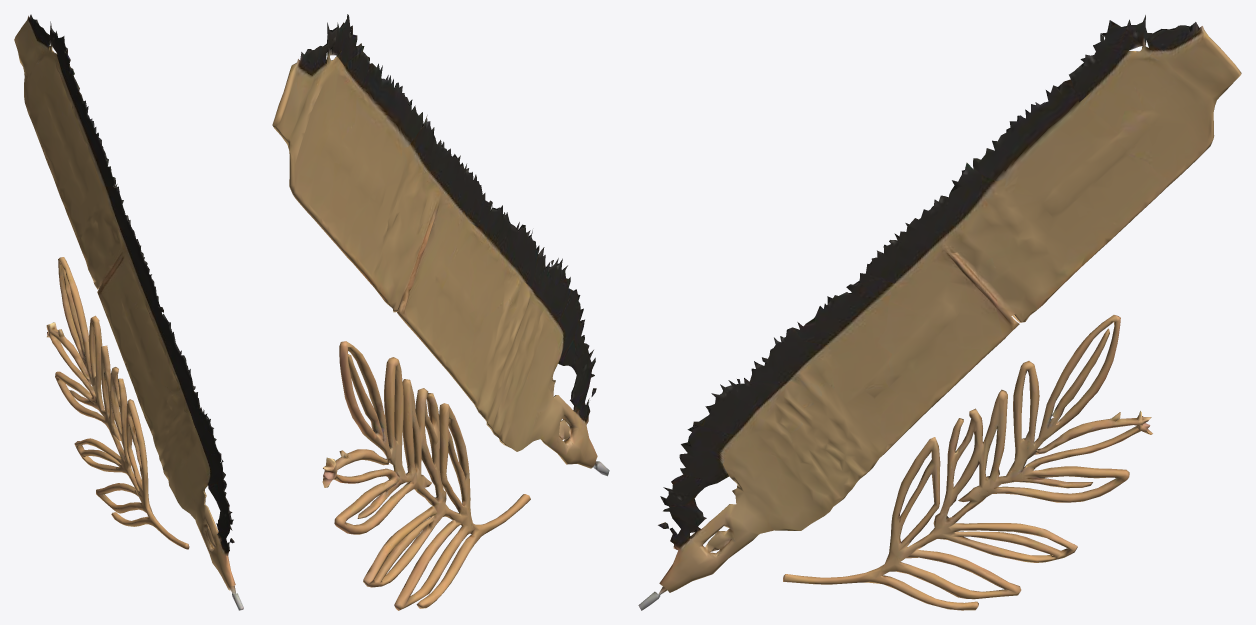
The model's file is tattoo.glb.
3 views of the same model, side by side, from view 1: azimuth 30°, elevation 25°; view 2: azimuth 150°, elevation 25°; view 3: azimuth 270°, elevation 25° (orthographic). The views are drawn at different scales.
Visible parts, largest first — view 1: tripo_node_5a9cfc8d-868a-4207-a896-fad7c42de290; view 2: tripo_node_5a9cfc8d-868a-4207-a896-fad7c42de290; view 3: tripo_node_5a9cfc8d-868a-4207-a896-fad7c42de290.
Boxes of the visible parts, x1,y1,x2,y2 form: tripo_node_5a9cfc8d-868a-4207-a896-fad7c42de290: [14, 14, 243, 610]; tripo_node_5a9cfc8d-868a-4207-a896-fad7c42de290: [272, 14, 609, 610]; tripo_node_5a9cfc8d-868a-4207-a896-fad7c42de290: [638, 15, 1241, 610].
Bounding box in the file's own units: 0.0213 × 0.9987 × 0.9156.
Materials: 1 (1 with a texture image).
